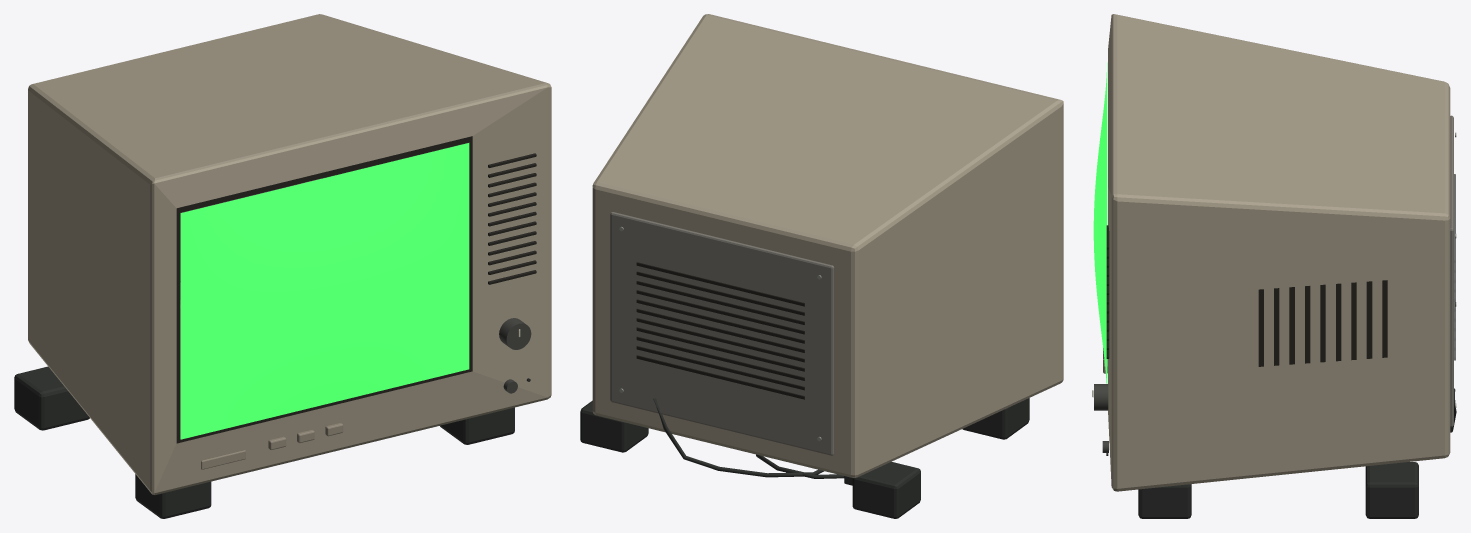
Rendered from crt.glb.
3 views of the same model, side by side, from view 1: azimuth 30°, elevation 25°; view 2: azimuth 150°, elevation 25°; view 3: azimuth 270°, elevation 25° (orthographic). The views are drawn at different scales.
Visible parts, largest first — view 1: CRT_Tapered_Housing, Screen_Video, CRT_Dark_Inner_Bezel, CRT_Rubber_Foot.001, CRT_Rubber_Foot, CRT_Rubber_Foot.002, CRT_Channel_Knob; view 2: CRT_Tapered_Housing, CRT_Rear_Service_Cover, CRT_Rubber_Foot.001, CRT_Rubber_Foot.003, CRT_Rubber_Foot, CRT_Coiled_Power_Cable, CRT_Rear_Vent_04, CRT_Rear_Vent_00, CRT_Rear_Vent_01, CRT_Rear_Vent_02, CRT_Rear_Vent_06, CRT_Rear_Vent_07 (+5 smaller); view 3: CRT_Tapered_Housing, CRT_Rubber_Foot.003, Screen_Video, CRT_Rubber_Foot.002, CRT_Rear_Service_Cover, CRT_Side_Vent_07, CRT_Side_Vent_04, CRT_Side_Vent_06, CRT_Side_Vent_02, CRT_Side_Vent_05, CRT_Side_Vent_08, CRT_Side_Vent_00 (+2 smaller).
Boxes of the visible parts, <box> form: CRT_Tapered_Housing: <box>28,14,551,494</box>; Screen_Video: <box>180,143,469,439</box>; CRT_Dark_Inner_Bezel: <box>176,136,472,443</box>; CRT_Rubber_Foot.001: <box>14,366,89,430</box>; CRT_Rubber_Foot: <box>135,474,211,518</box>; CRT_Rubber_Foot.002: <box>440,407,514,444</box>; CRT_Channel_Knob: <box>499,318,531,349</box>; CRT_Tapered_Housing: <box>592,14,1063,477</box>; CRT_Rear_Service_Cover: <box>610,212,834,455</box>; CRT_Rubber_Foot.001: <box>852,462,920,518</box>; CRT_Rubber_Foot.003: <box>580,400,648,452</box>; CRT_Rubber_Foot: <box>962,398,1029,439</box>; CRT_Coiled_Power_Cable: <box>653,398,844,478</box>; CRT_Rear_Vent_04: <box>636,318,804,362</box>; CRT_Rear_Vent_00: <box>636,355,804,399</box>; CRT_Rear_Vent_01: <box>636,346,804,390</box>; CRT_Rear_Vent_02: <box>636,336,804,380</box>; CRT_Rear_Vent_06: <box>636,299,804,343</box>; CRT_Rear_Vent_07: <box>636,290,804,334</box>; CRT_Tapered_Housing: <box>1108,14,1450,491</box>; CRT_Rubber_Foot.003: <box>1365,462,1418,518</box>; Screen_Video: <box>1093,62,1107,383</box>; CRT_Rubber_Foot.002: <box>1138,484,1191,518</box>; CRT_Rear_Service_Cover: <box>1450,115,1453,427</box>; CRT_Side_Vent_07: <box>1366,281,1372,358</box>; CRT_Side_Vent_04: <box>1320,284,1325,362</box>; CRT_Side_Vent_06: <box>1351,282,1356,360</box>; CRT_Side_Vent_02: <box>1289,287,1294,364</box>; CRT_Side_Vent_05: <box>1336,283,1341,361</box>; CRT_Side_Vent_08: <box>1382,280,1387,357</box>; CRT_Side_Vent_00: <box>1258,289,1263,366</box>.
Bounding box in the file's own units: 0.6473 × 0.5489 × 0.5415.
